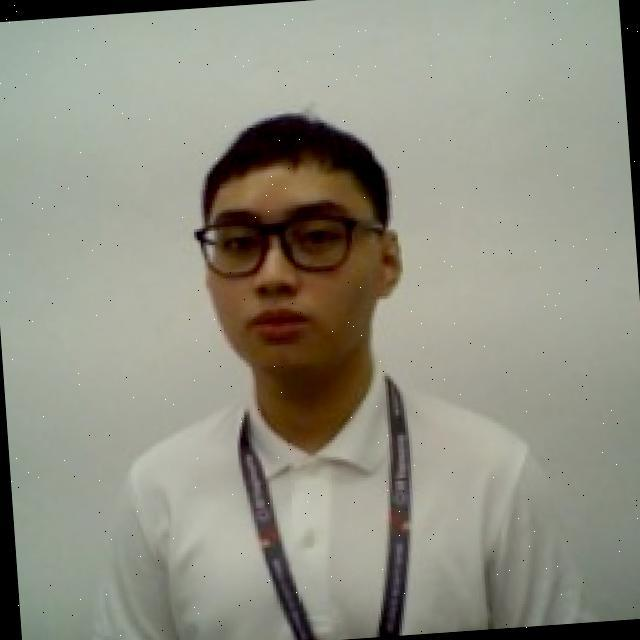no_gloves: (184, 104, 396, 236)
no_hairnet: (202, 236, 408, 386)
